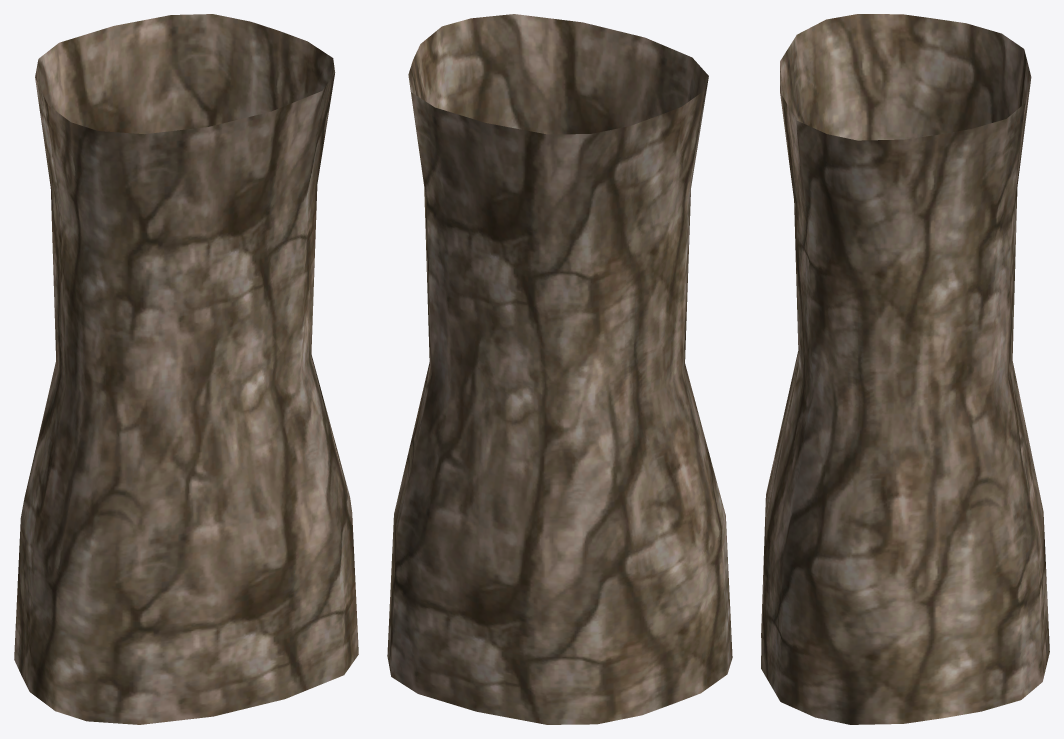
Rendered from EKH_THRONE_PS_TH_WALL_178.fbx.
3 views of the same model, side by side, from view 1: azimuth 30°, elevation 25°; view 2: azimuth 150°, elevation 25°; view 3: azimuth 270°, elevation 25° (orthographic).
Parts seen in each view (by area): view 1: EKH_THRONE_PS_TH_WALL_178; view 2: EKH_THRONE_PS_TH_WALL_178; view 3: EKH_THRONE_PS_TH_WALL_178.
Boxes of the visible parts, box(x1,y1,x2,y2) form: EKH_THRONE_PS_TH_WALL_178: box(14, 14, 358, 724); EKH_THRONE_PS_TH_WALL_178: box(387, 14, 732, 724); EKH_THRONE_PS_TH_WALL_178: box(761, 14, 1049, 724).
Size of the model in its own units: 55368 by 102121 by 46484.
Materials: 1 (1 with a texture image).
